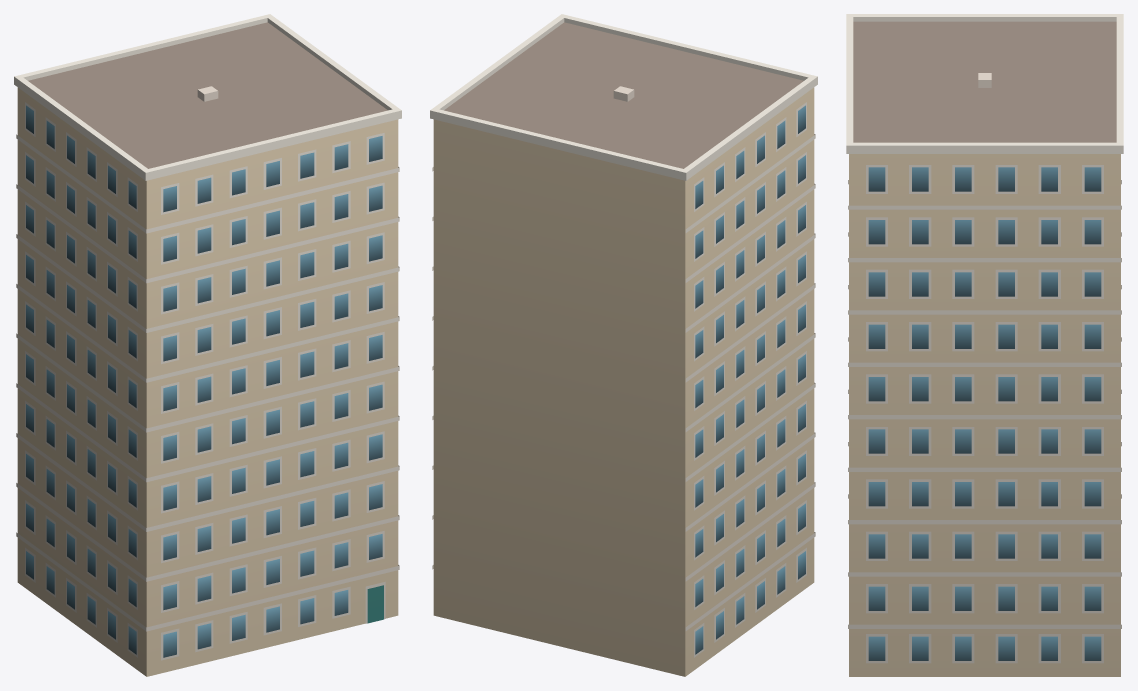
File: sky0_far.glb
3 renders of one model, left to right at view 1: azimuth 30°, elevation 25°; view 2: azimuth 150°, elevation 25°; view 3: azimuth 270°, elevation 25°, orthographic. The views are drawn at different scales.
Visible parts, largest first — view 1: sky0_far; view 2: sky0_far; view 3: sky0_far.
Part boxes in pixels (bbox=[...]): sky0_far: bbox=[14, 14, 401, 676]; sky0_far: bbox=[430, 14, 817, 676]; sky0_far: bbox=[846, 14, 1123, 676].
Bounding box in the file's own units: 18.32 × 34.77 × 16.32.
1 material, 1 textured.
